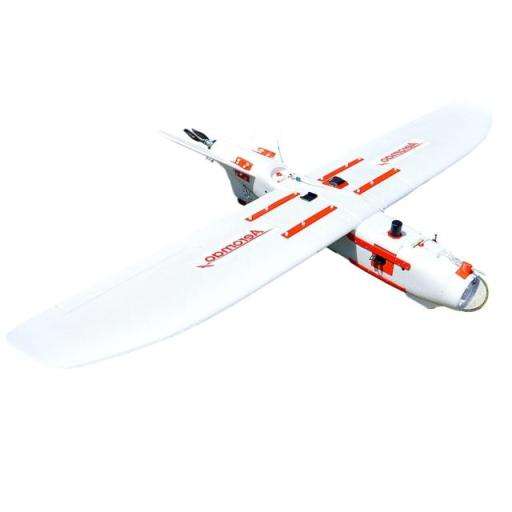uav: (4, 91, 506, 373)
